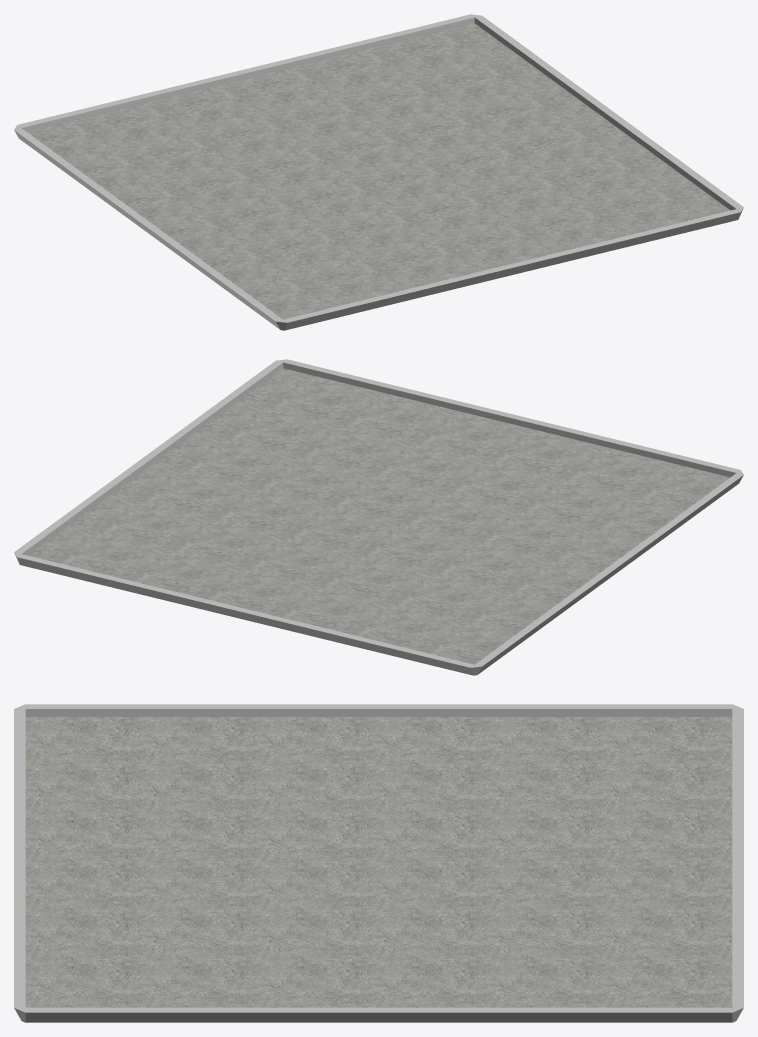
The model's file is Roof_Type_A02.fbx.
3 views of the same model, one above another, from view 1: azimuth 30°, elevation 25°; view 2: azimuth 150°, elevation 25°; view 3: azimuth 270°, elevation 25° (orthographic). The views are drawn at different scales.
Visible parts, largest first — view 1: Roof_Type_A02; view 2: Roof_Type_A02; view 3: Roof_Type_A02.
Part boxes in pixels (box(x1,y1,x2,y2)): Roof_Type_A02: box(14, 14, 743, 330); Roof_Type_A02: box(14, 359, 743, 675); Roof_Type_A02: box(14, 704, 743, 1022).
Size of the model in its own units: 1586 by 32 by 1586.
